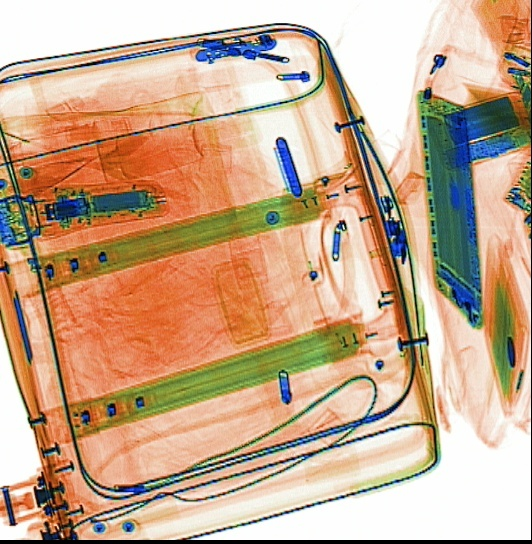powerbank: (431, 86, 525, 174)
